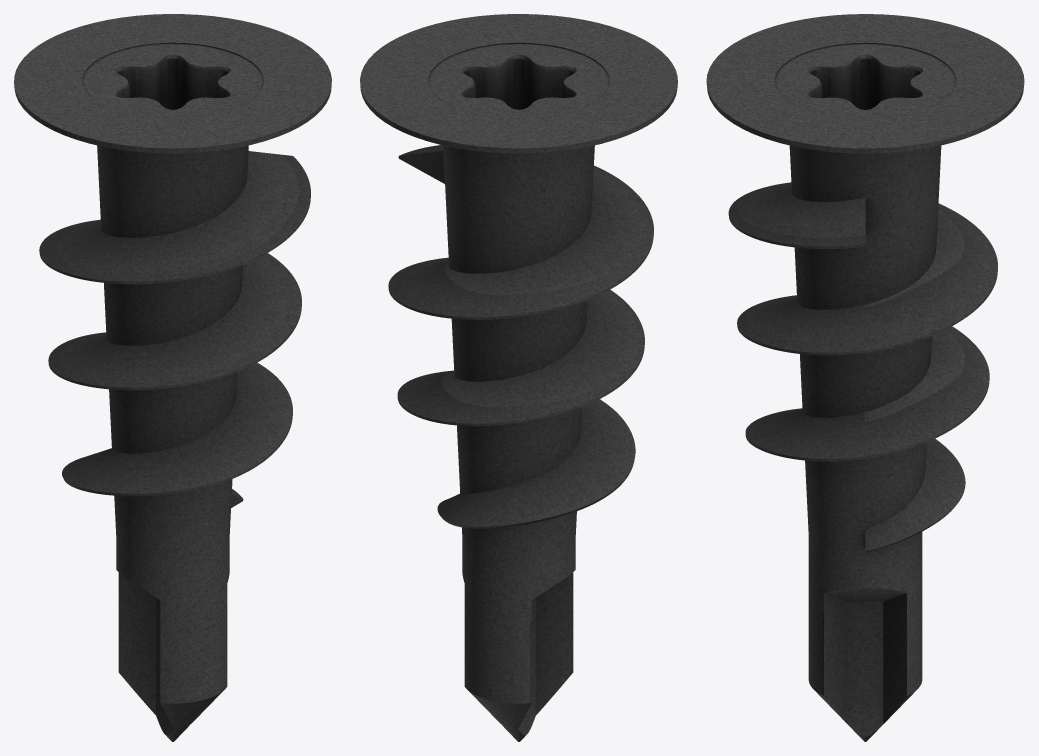
The model's file is DPN.glb.
The picture shows the model from 3 angles, left to right: view 1: azimuth 30°, elevation 25°; view 2: azimuth 150°, elevation 25°; view 3: azimuth 270°, elevation 25°; orthographic projection.
Parts seen in each view (by area): view 1: A_MAIN_BODY; view 2: A_MAIN_BODY; view 3: A_MAIN_BODY.
Boxes of the visible parts, x1=… form: A_MAIN_BODY: x1=14, y1=14, x2=331, y2=741; A_MAIN_BODY: x1=360, y1=14, x2=677, y2=741; A_MAIN_BODY: x1=706, y1=14, x2=1024, y2=741.
Size of the model in its own units: 0.014 by 0.0321 by 0.014.
1 material, 1 textured.
